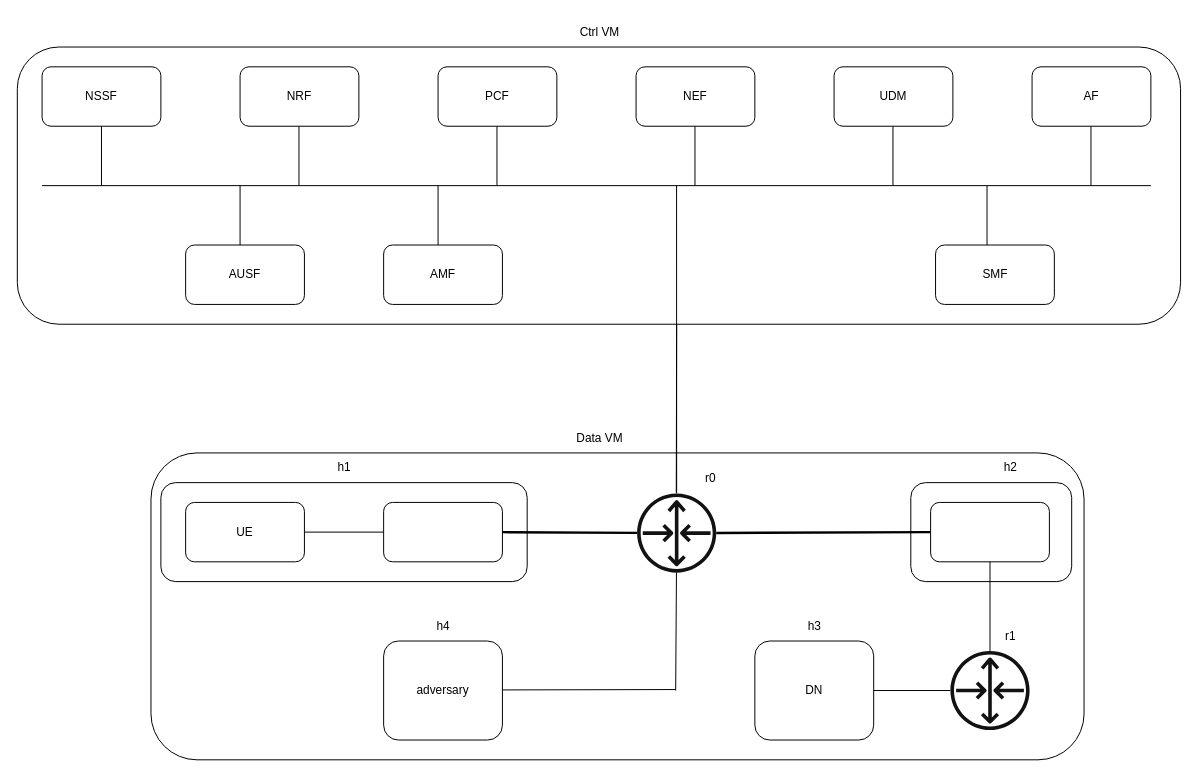
Image size: 1198x777. Some labels were removed from this diagram. Here are the shapes that lost their labels. From the top down, the centre of each, then its label:
At (442,531): "gNB".
At (989,531): "UPF".
